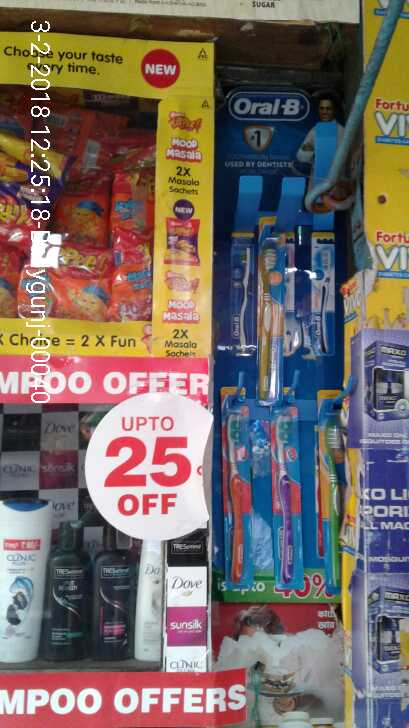oralb: (265, 402, 307, 593), (315, 387, 350, 602), (218, 387, 253, 592), (255, 222, 284, 403)
